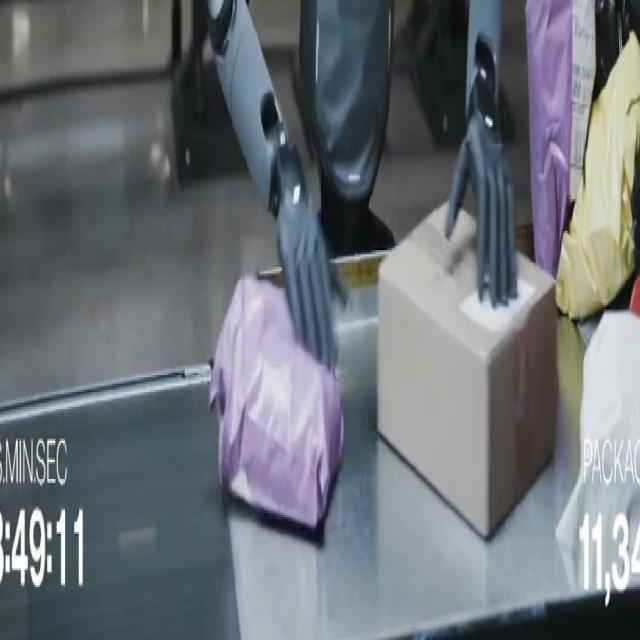package: (378, 206, 558, 538), (210, 278, 343, 529), (557, 34, 639, 319), (556, 312, 639, 593), (526, 0, 595, 277), (594, 0, 631, 99), (632, 153, 639, 277)
